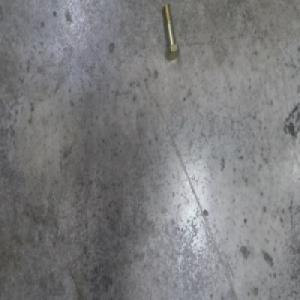Bolt: (160, 7, 177, 64)
